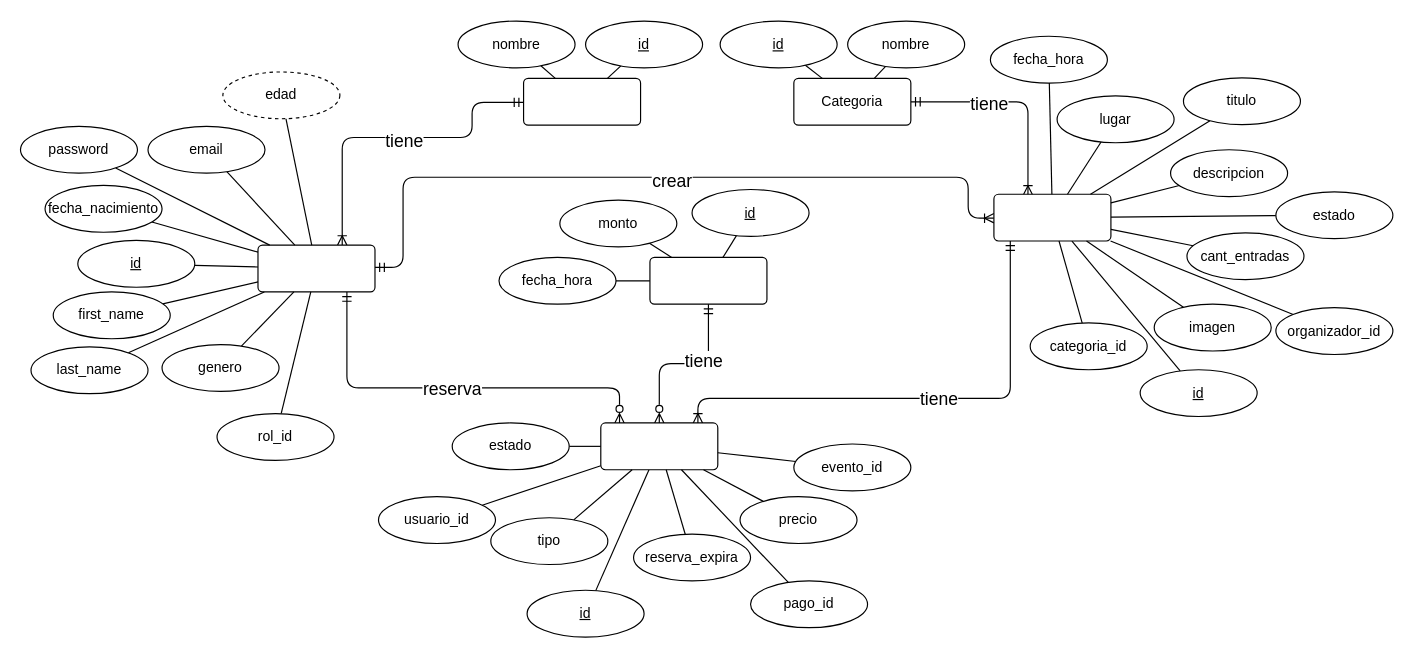
This 1413x658 diagram has some shape labels left out. Here are the shapes that lost their labels. From the top down, the centre of each, then its label:
At pixel 581 101: "Rol".
At pixel 1052 217: "Evento".
At pixel 316 268: "Usuario".
At pixel 708 280: "Pago".
At pixel 659 446: "Entrada".
